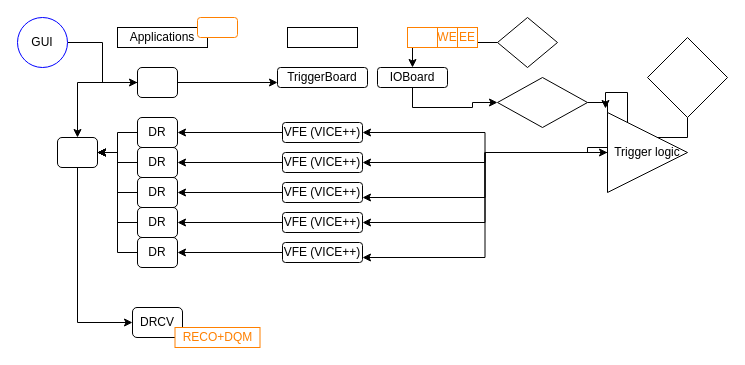
This 745x365 diagram has some shape labels left out. The shapes that lost their labels are listed below. From the top down, each one's box as (x1, y1, x2, y2) in pixels, then its label:
(196, 16, 238, 38): SW
(286, 26, 358, 48): hardware
(406, 26, 438, 48): WWE
(496, 16, 558, 68): SPS
(136, 66, 178, 98): RC
(646, 36, 728, 118): Physics trigger
(496, 76, 588, 128): Trigger type
(56, 136, 98, 168): EB
